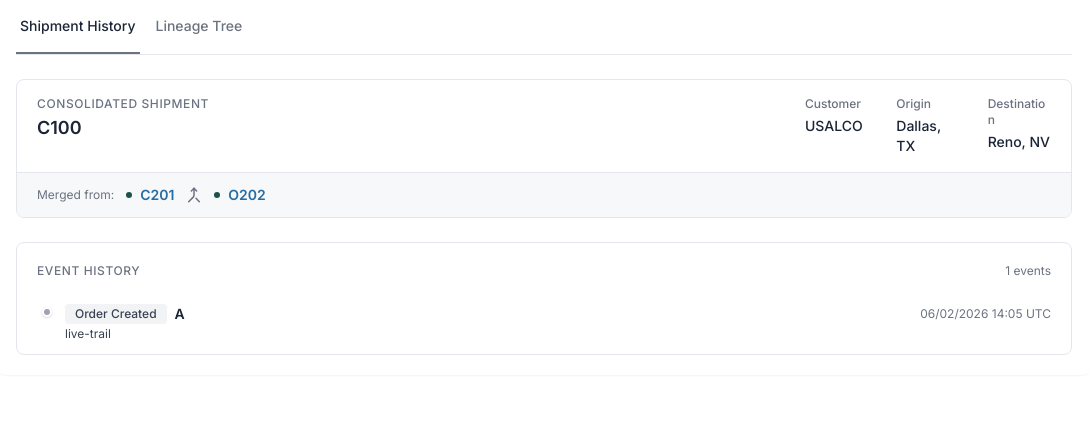
Test: HistoryTab — lineage › tree: root starts collapsed, expand shows Sources of, Expand/Collapse All
Click the button "Lineage Tree" at (199, 35), box 152,16 -> 246,54
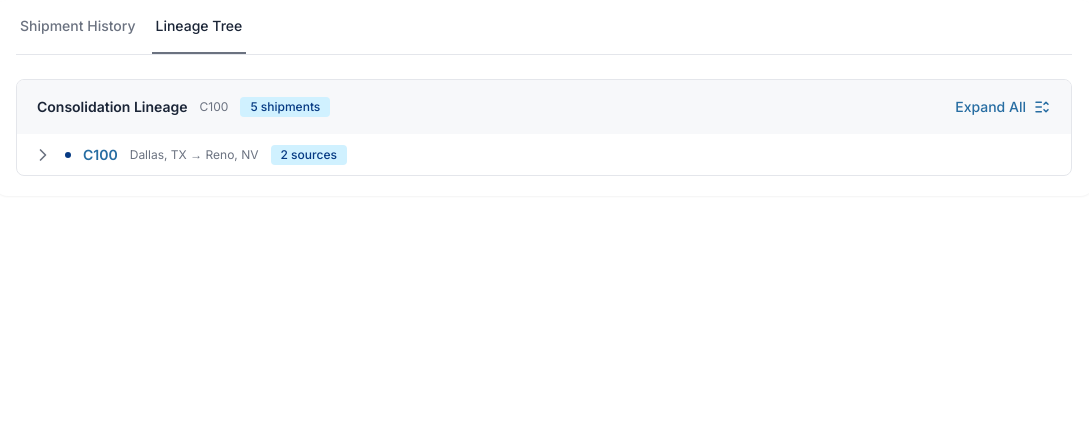
Check: the text "Sources of" is not shown
Check: the text "5 shipments" is shown, box 240,97 -> 330,117
Click the button named "Expand C100" at (43, 154), box 33,144 -> 53,164
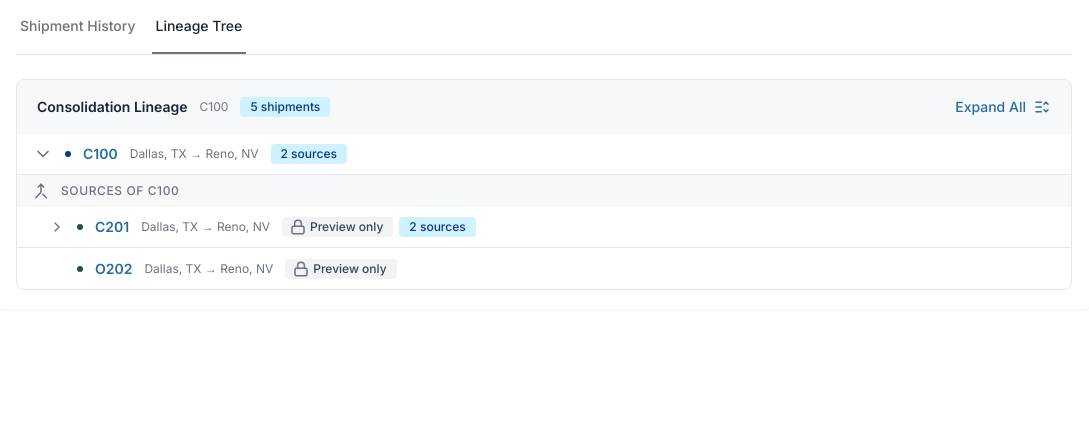
Check: the text "Sources of C201" is not shown
Check: the text "Sources of C100" is shown, box 17,175 -> 1071,207
Click the button "Expand All" at (1003, 107), box 954,96 -> 1051,118
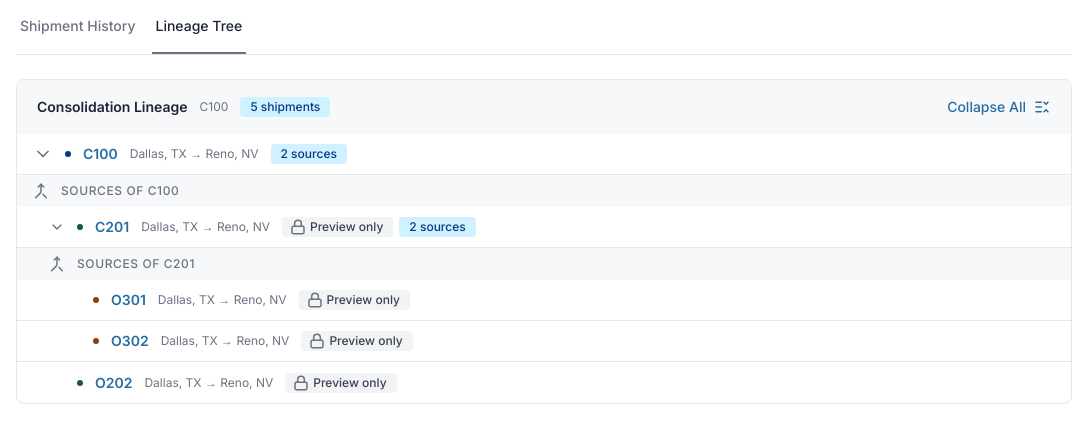
Check: the text "Sources of C201" is shown, box 17,248 -> 1071,280
Click the button "Collapse All" at (999, 107), box 946,96 -> 1051,118
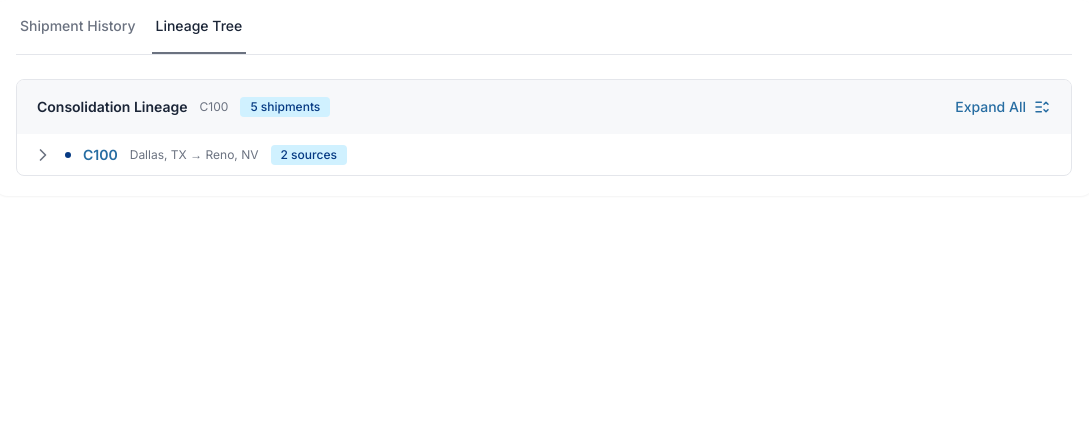
Check: the text "Sources of" is gone
